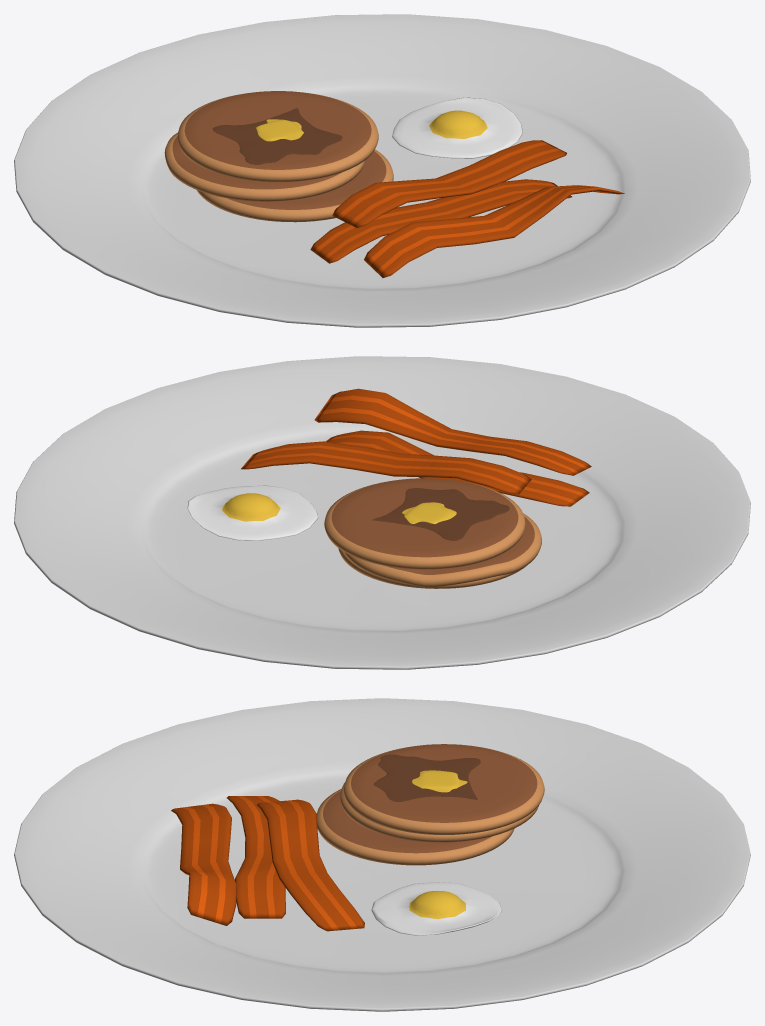
File: Breakfast.dae
The picture shows the model from 3 angles, top to bottom: view 1: azimuth 30°, elevation 25°; view 2: azimuth 150°, elevation 25°; view 3: azimuth 270°, elevation 25°; orthographic projection.
Parts seen in each view (by area): view 1: SM_ClassicPlate30cm, Circle.003, Cube.001_Cube.002, Cube.003_Cube.000, Icosphere, Cube.002_Cube.003, Circle.002, Circle.001, Plane_Plane.001, Cube_Cube.001; view 2: SM_ClassicPlate30cm, Circle.003, Cube.001_Cube.002, Cube.003_Cube.000, Icosphere, Circle.002, Plane_Plane.001, Cube.002_Cube.003, Cube_Cube.001, Circle.001; view 3: SM_ClassicPlate30cm, Circle.003, Cube.003_Cube.000, Cube.001_Cube.002, Icosphere, Circle.001, Cube.002_Cube.003, Plane_Plane.001, Circle.002, Cube_Cube.001.
Boxes of the visible parts, x1,y1,x2,y2 form: SM_ClassicPlate30cm: (14,14,750,327); Circle.003: (177,91,378,181); Cube.001_Cube.002: (364,185,624,277); Cube.003_Cube.000: (332,140,566,227); Icosphere: (392,97,522,158); Cube.002_Cube.003: (310,179,571,263); Circle.002: (164,132,365,201); Circle.001: (196,149,393,222); Plane_Plane.001: (212,108,342,164); Cube_Cube.001: (255,119,303,141); SM_ClassicPlate30cm: (14,356,750,669); Circle.003: (324,478,525,569); Cube.001_Cube.002: (314,388,591,475); Cube.003_Cube.000: (241,441,531,494); Icosphere: (187,485,318,540); Circle.002: (344,513,541,587); Plane_Plane.001: (373,488,509,540); Cube.002_Cube.003: (325,430,589,506); Cube_Cube.001: (402,502,456,524); Circle.001: (338,548,527,588); SM_ClassicPlate30cm: (14,698,750,1011); Circle.003: (343,744,544,834); Cube.003_Cube.000: (256,799,364,931); Cube.001_Cube.002: (171,803,236,925); Icosphere: (371,882,501,935); Circle.001: (316,789,514,865); Cube.002_Cube.003: (226,796,285,918); Plane_Plane.001: (373,754,480,801); Circle.002: (340,782,538,842); Cube_Cube.001: (412,770,467,792).
Size of the model in its own units: 0.2986 by 0.2986 by 0.0293.
